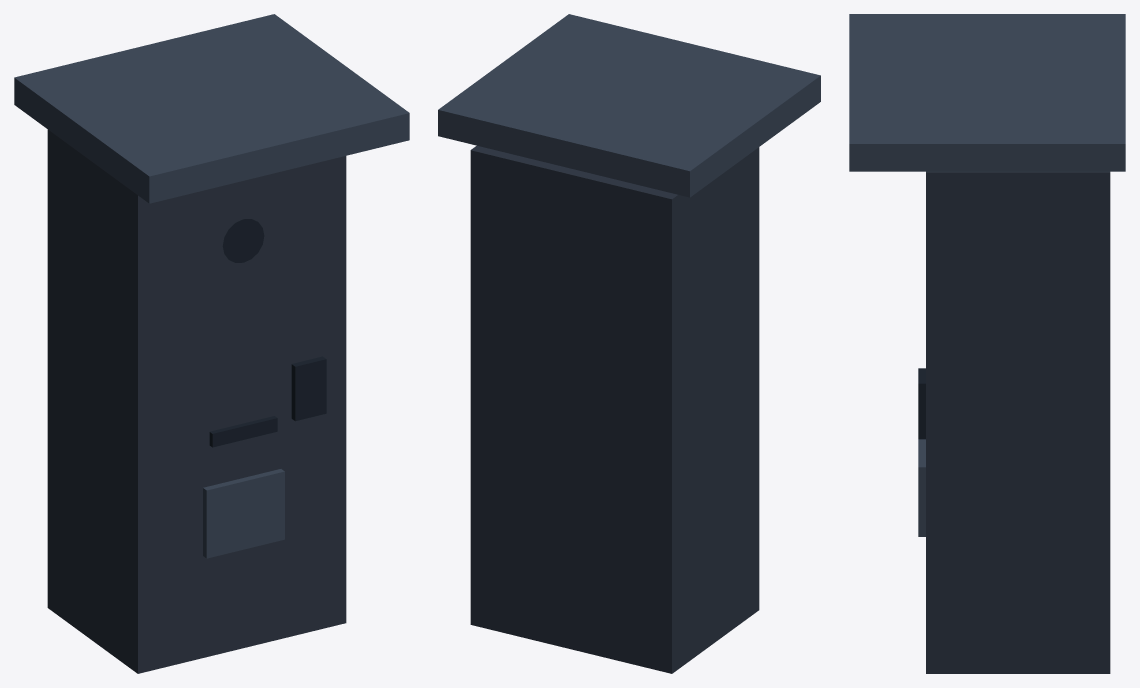
The model's file is yard-scale-kiosk-body-authored-vertex-colour-tripo-finish.glb.
3 renders of one model, left to right at view 1: azimuth 30°, elevation 25°; view 2: azimuth 150°, elevation 25°; view 3: azimuth 270°, elevation 25°, orthographic. The views are drawn at different scales.
Visible parts, largest first — view 1: Authored shadows false:false; view 2: Authored shadows false:false; view 3: Authored shadows false:false.
Boxes of the visible parts, x1,y1,x2,y2 form: Authored shadows false:false: (14, 14, 409, 673); Authored shadows false:false: (438, 14, 820, 673); Authored shadows false:false: (849, 14, 1125, 673).
Bounding box in the file's own units: 0.5128 × 1 × 0.4615.
